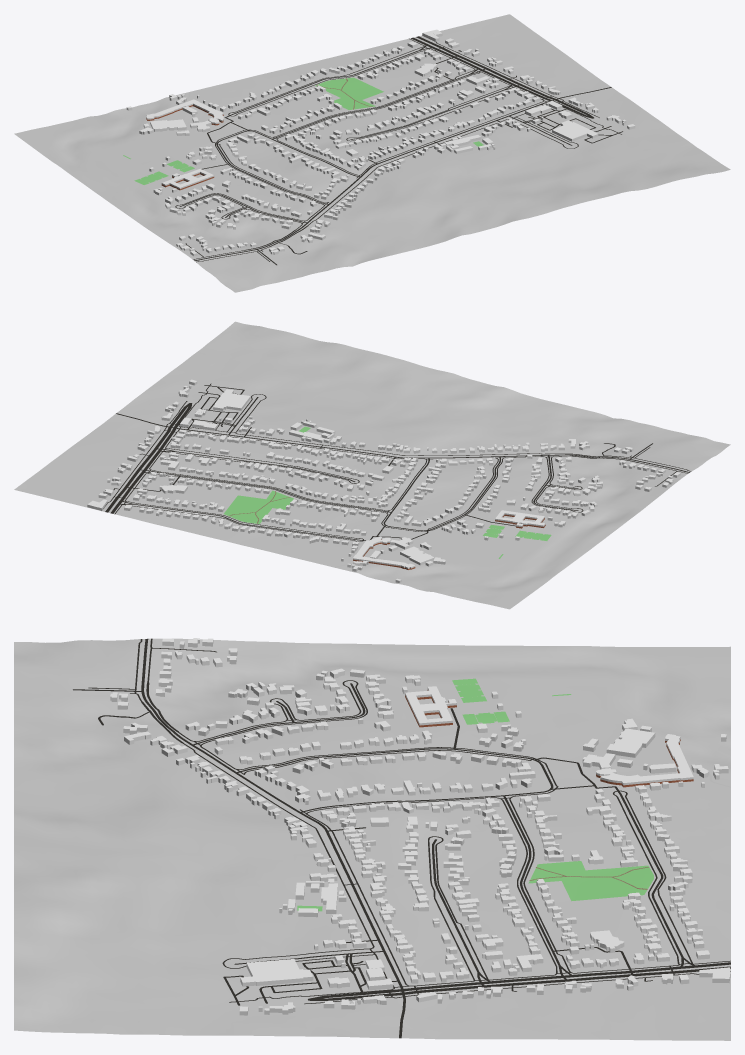
The model's file is JPCandsurroundings.obj.
3 views of the same model, one above another, from view 1: azimuth 30°, elevation 25°; view 2: azimuth 150°, elevation 25°; view 3: azimuth 270°, elevation 25° (orthographic). The views are drawn at different scales.
Parts seen in each view (by area): view 1: TPX_Ground_0, TPX_GreenAreas_39, TPX_Buildings_436, TPX_Buildings_734, TPX_Buildings_1296, TPX_RoadsOutlines_20; view 2: TPX_Ground_0, TPX_GreenAreas_39, TPX_Buildings_436, TPX_RoadsOutlines_20, TPX_Buildings_734, TPX_Buildings_1296; view 3: TPX_Ground_0, TPX_GreenAreas_39, TPX_Buildings_436, TPX_Buildings_1296, TPX_Buildings_734, TPX_RoadsOutlines_20, TPX_Buildings_373, TPX_RoadsOutlines_164, TPX_RoadsOutlines_155.
Part boxes in pixels (bbox=[...]): TPX_Ground_0: bbox=[14, 14, 730, 292]; TPX_GreenAreas_39: bbox=[315, 77, 383, 109]; TPX_Buildings_436: bbox=[146, 99, 223, 125]; TPX_Buildings_734: bbox=[161, 168, 214, 190]; TPX_Buildings_1296: bbox=[552, 120, 598, 141]; TPX_RoadsOutlines_20: bbox=[290, 87, 611, 234]; TPX_Ground_0: bbox=[14, 321, 730, 609]; TPX_GreenAreas_39: bbox=[224, 490, 293, 523]; TPX_Buildings_436: bbox=[353, 536, 415, 569]; TPX_RoadsOutlines_20: bbox=[116, 413, 580, 458]; TPX_Buildings_734: bbox=[495, 510, 545, 528]; TPX_Buildings_1296: bbox=[213, 389, 250, 410]; TPX_Ground_0: bbox=[14, 638, 730, 1040]; TPX_GreenAreas_39: bbox=[528, 861, 653, 901]; TPX_Buildings_436: bbox=[596, 734, 693, 787]; TPX_Buildings_1296: bbox=[240, 959, 313, 986]; TPX_Buildings_734: bbox=[405, 686, 456, 727]; TPX_RoadsOutlines_20: bbox=[166, 726, 405, 1038]; TPX_Buildings_373: bbox=[606, 728, 655, 757]; TPX_RoadsOutlines_164: bbox=[459, 965, 698, 985]; TPX_RoadsOutlines_155: bbox=[428, 836, 488, 980].
Size of the model in its own units: 234 by 5.06 by 181.
